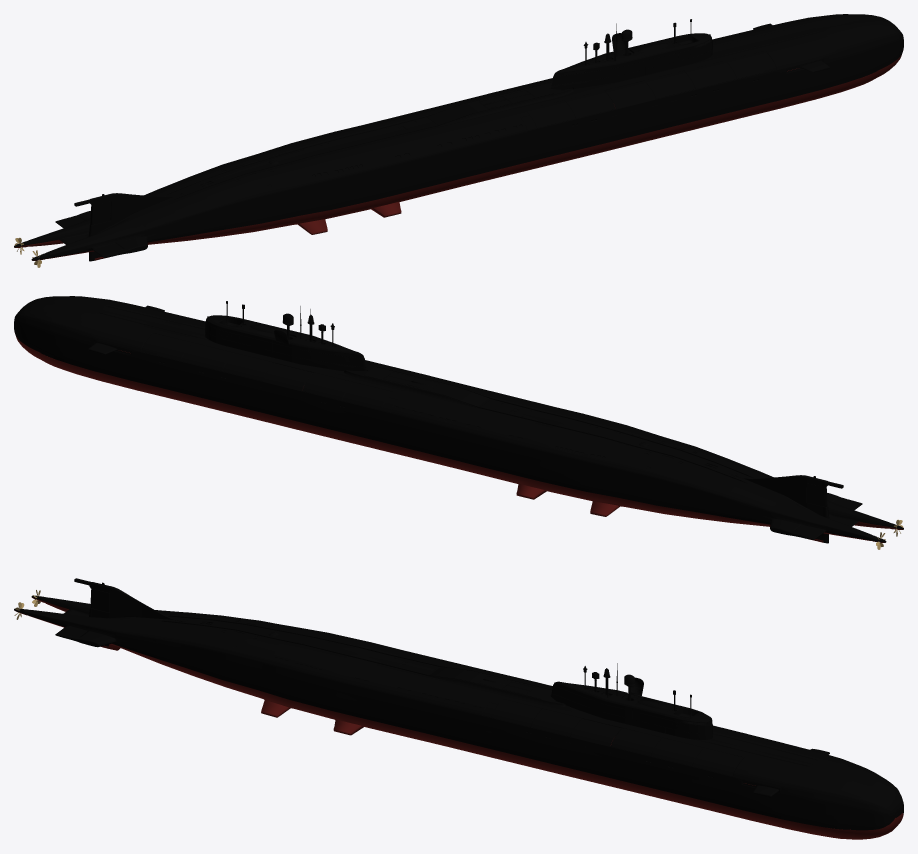
Rendered from Antey.glb.
3 views of the same model, one above another, from view 1: azimuth 30°, elevation 25°; view 2: azimuth 150°, elevation 25°; view 3: azimuth 330°, elevation 25° (orthographic).
Parts seen in each view (by area): view 1: SM_Antey_LOD0_Hull, SM_Antey_LOD0_Hull_LowerSource, SM_Antey_LOD0_Sail, SM_Antey_LOD0_SourceDetail_Bridge_02, SM_Antey_P700_Cover_Starboard_02, SM_Antey_P700_Cover_Starboard_01, SM_Antey_P700_Cover_Starboard_05, SM_Antey_P700_Cover_Starboard_03, SM_Antey_P700_Cover_Starboard_04, SM_Antey_P700_Cover_Starboard_06; view 2: SM_Antey_LOD0_Hull, SM_Antey_LOD0_Hull_LowerSource, SM_Antey_LOD0_Sail, SM_Antey_LOD0_SourceDetail_Bridge_02, SM_Antey_P700_Cover_Port_02, SM_Antey_P700_Cover_Port_01, SM_Antey_P700_Cover_Port_05, SM_Antey_P700_Cover_Port_03, SM_Antey_P700_Cover_Port_04, SM_Antey_P700_Cover_Port_06; view 3: SM_Antey_LOD0_Hull, SM_Antey_LOD0_Hull_LowerSource, SM_Antey_LOD0_Sail, SM_Antey_LOD0_SourceDetail_Bridge_02, SM_Antey_P700_Cover_Starboard_02, SM_Antey_P700_Cover_Starboard_01, SM_Antey_P700_Cover_Starboard_03, SM_Antey_P700_Cover_Starboard_04, SM_Antey_P700_Cover_Starboard_05, SM_Antey_P700_Cover_Starboard_06.
Part boxes in pixels (x1,y1,x2,y2): SM_Antey_LOD0_Hull: [14, 14, 903, 260]; SM_Antey_LOD0_Hull_LowerSource: [14, 50, 903, 260]; SM_Antey_LOD0_Sail: [551, 33, 712, 89]; SM_Antey_LOD0_SourceDetail_Bridge_02: [427, 82, 574, 126]; SM_Antey_P700_Cover_Starboard_02: [684, 60, 736, 89]; SM_Antey_P700_Cover_Starboard_01: [725, 51, 776, 78]; SM_Antey_P700_Cover_Starboard_05: [564, 90, 615, 118]; SM_Antey_P700_Cover_Starboard_03: [644, 71, 694, 98]; SM_Antey_P700_Cover_Starboard_04: [605, 81, 655, 108]; SM_Antey_P700_Cover_Starboard_06: [525, 100, 575, 128]; SM_Antey_LOD0_Hull: [14, 296, 903, 542]; SM_Antey_LOD0_Hull_LowerSource: [14, 332, 903, 542]; SM_Antey_LOD0_Sail: [205, 315, 366, 370]; SM_Antey_LOD0_SourceDetail_Bridge_02: [344, 364, 490, 407]; SM_Antey_P700_Cover_Port_02: [181, 342, 233, 371]; SM_Antey_P700_Cover_Port_01: [141, 333, 192, 360]; SM_Antey_P700_Cover_Port_05: [302, 372, 353, 400]; SM_Antey_P700_Cover_Port_03: [223, 353, 273, 380]; SM_Antey_P700_Cover_Port_04: [262, 363, 312, 390]; SM_Antey_P700_Cover_Port_06: [342, 382, 392, 410]; SM_Antey_LOD0_Hull: [14, 578, 903, 830]; SM_Antey_LOD0_Hull_LowerSource: [14, 597, 903, 839]; SM_Antey_LOD0_Sail: [551, 681, 712, 739]; SM_Antey_LOD0_SourceDetail_Bridge_02: [426, 666, 565, 706]; SM_Antey_P700_Cover_Starboard_02: [651, 737, 703, 765]; SM_Antey_P700_Cover_Starboard_01: [692, 748, 743, 776]; SM_Antey_P700_Cover_Starboard_03: [610, 728, 661, 755]; SM_Antey_P700_Cover_Starboard_04: [570, 718, 621, 746]; SM_Antey_P700_Cover_Starboard_05: [530, 708, 581, 736]; SM_Antey_P700_Cover_Starboard_06: [491, 699, 541, 726].
Size of the model in its own units: 154 by 19.02 by 18.2.
